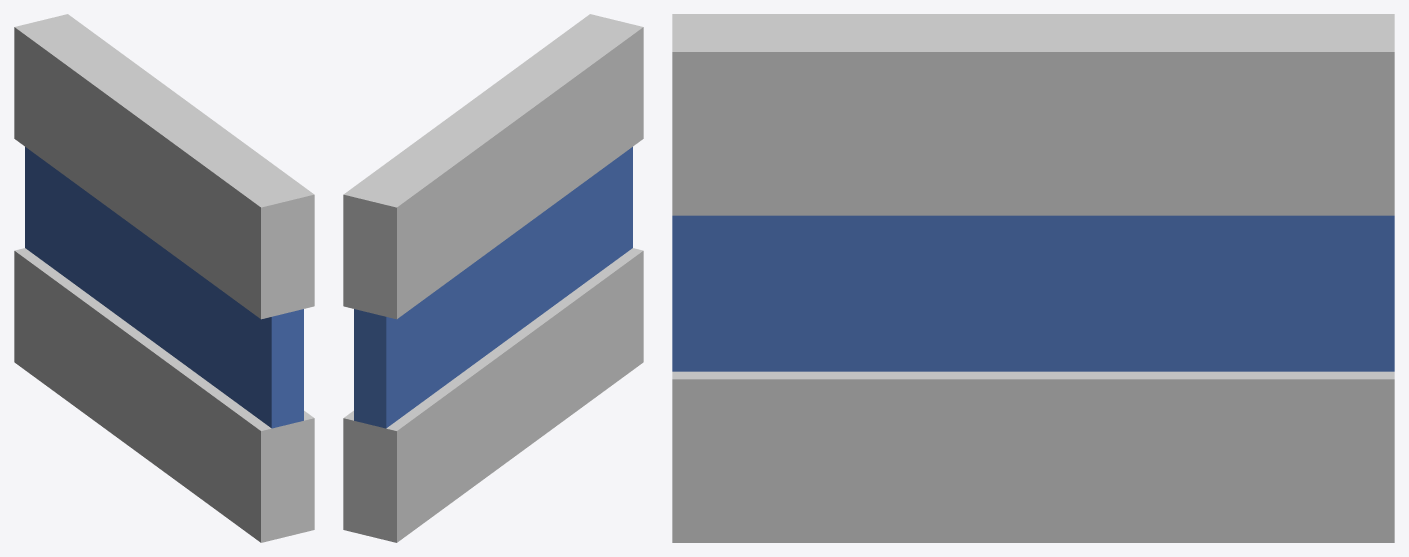
Rendered from BlueDoor1.fbx.
3 views of the same model, side by side, from view 1: azimuth 30°, elevation 25°; view 2: azimuth 150°, elevation 25°; view 3: azimuth 270°, elevation 25° (orthographic). The views are drawn at different scales.
Visible parts, largest first — view 1: Cube.001; view 2: Cube.001; view 3: Cube.001.
Part boxes in pixels (x1,y1,x2,y2): Cube.001: [14, 14, 314, 542]; Cube.001: [343, 14, 643, 542]; Cube.001: [672, 14, 1394, 542].
Bounding box in the file's own units: 400 × 50 × 300.
